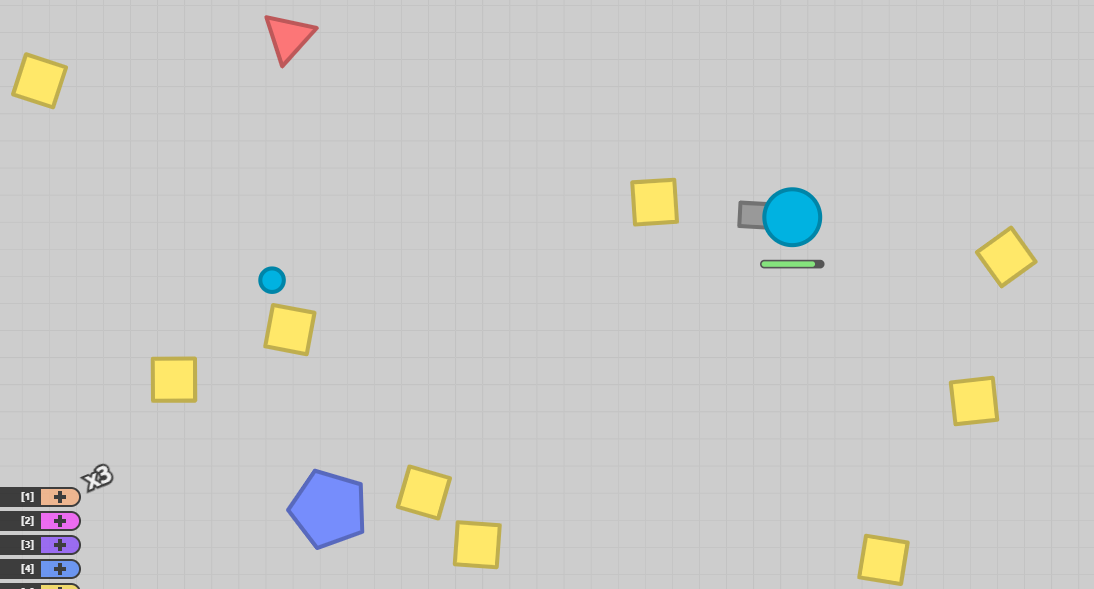bullet: (256, 264, 287, 295)
pentagon: (283, 465, 366, 550)
player: (735, 185, 826, 270)
square: (973, 224, 1039, 289), (9, 51, 69, 112), (394, 461, 454, 521), (854, 530, 911, 587), (945, 374, 1001, 428), (627, 176, 681, 227), (452, 519, 503, 570), (263, 302, 307, 357), (150, 356, 198, 403)
triangle: (263, 13, 320, 69)
